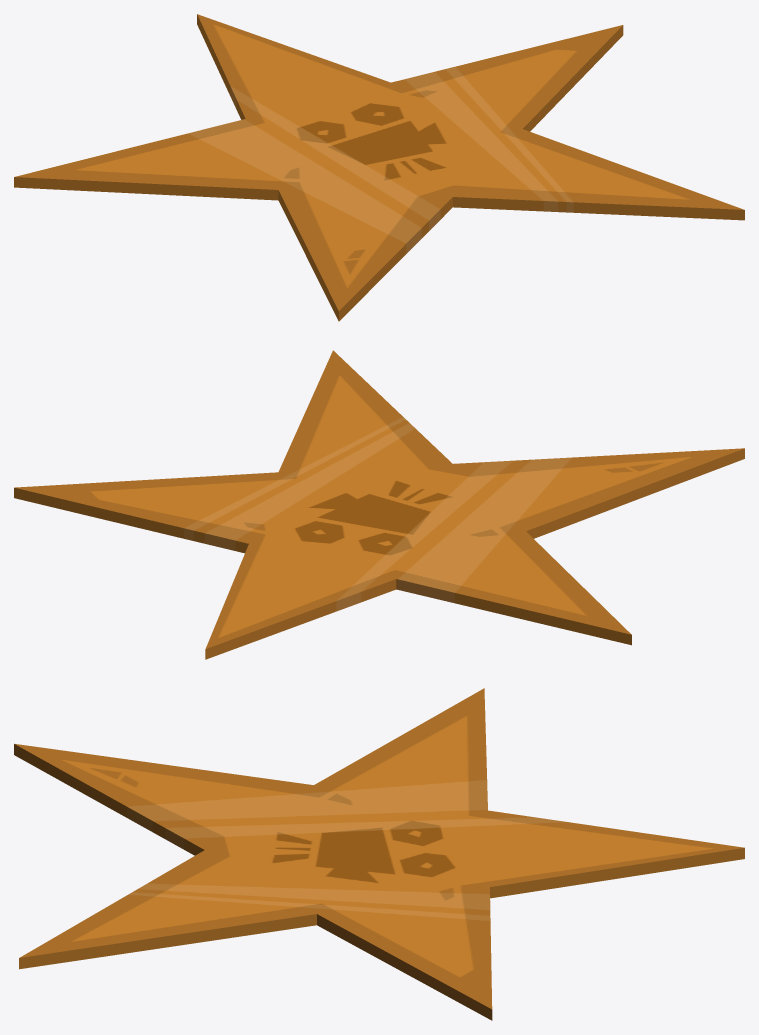
File: Star (2).FBX
3 renders of one model, top to bottom at view 1: azimuth 30°, elevation 25°; view 2: azimuth 150°, elevation 25°; view 3: azimuth 270°, elevation 25°, orthographic. The views are drawn at different scales.
Visible parts, largest first — view 1: Star001; view 2: Star001; view 3: Star001.
Boxes of the visible parts, <box> form: Star001: <box>14,14,744,321</box>; Star001: <box>14,350,744,659</box>; Star001: <box>14,688,744,1020</box>.
Bounding box in the file's own units: 1221 × 20 × 1173.
